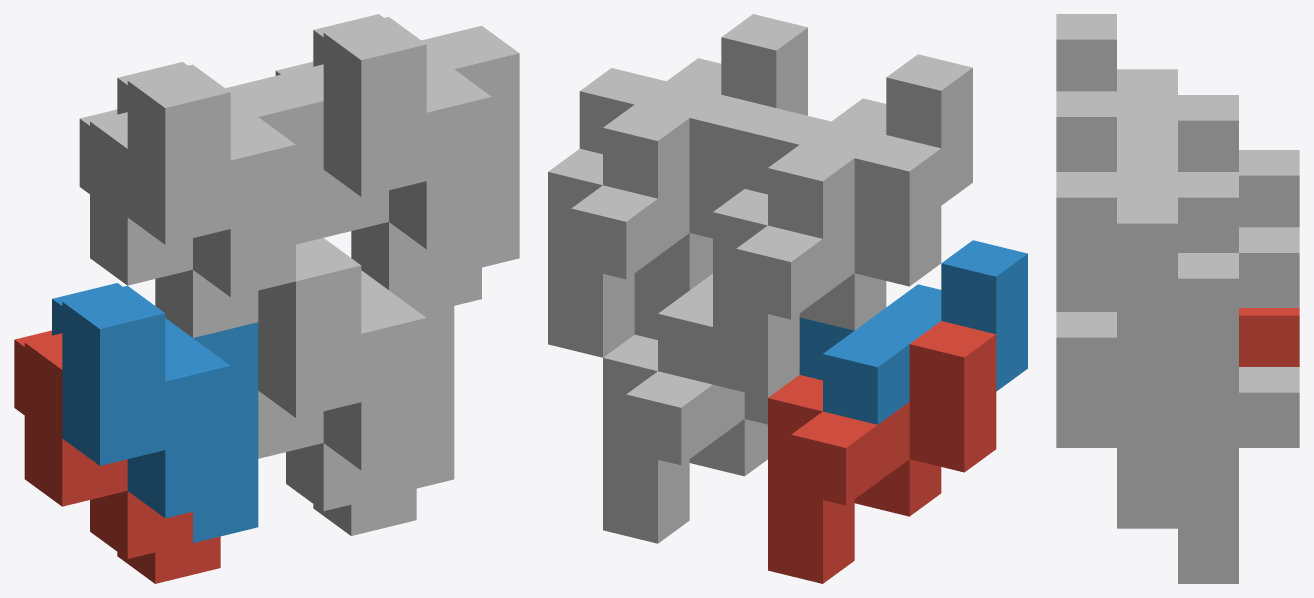
The model's file is tiling.obj.
3 renders of one model, left to right at view 1: azimuth 30°, elevation 25°; view 2: azimuth 150°, elevation 25°; view 3: azimuth 270°, elevation 25°, orthographic. The views are drawn at different scales.
Parts seen in each view (by area): view 1: copy_1_domain_8, copy_1_domain_2, copy_1_domain_4, copy_1_domain_6, copy_1_domain_1, copy_1_domain_3, copy_1_domain_5, copy_1_domain_7; view 2: copy_1_domain_1, copy_1_domain_3, copy_1_domain_7, copy_1_domain_5, copy_1_domain_4, copy_1_domain_8, copy_1_domain_2, copy_1_domain_6; view 3: copy_1_domain_8, copy_1_domain_7, copy_1_domain_6, copy_1_domain_5, copy_1_domain_4, copy_1_domain_3, copy_1_domain_1.
Boxes of the visible parts, <box> form: copy_1_domain_8: <box>313,14,519,274</box>; copy_1_domain_2: <box>52,283,258,542</box>; copy_1_domain_4: <box>117,62,323,297</box>; copy_1_domain_6: <box>258,238,454,495</box>; copy_1_domain_1: <box>14,330,220,583</box>; copy_1_domain_3: <box>79,109,258,337</box>; copy_1_domain_5: <box>258,391,416,535</box>; copy_1_domain_7: <box>275,61,481,305</box>; copy_1_domain_1: <box>768,321,996,583</box>; copy_1_domain_3: <box>713,135,941,397</box>; copy_1_domain_7: <box>548,95,775,357</box>; copy_1_domain_5: <box>603,334,767,543</box>; copy_1_domain_4: <box>744,54,972,238</box>; copy_1_domain_8: <box>579,14,807,198</box>; copy_1_domain_2: <box>799,240,1027,424</box>; copy_1_domain_6: <box>634,273,712,384</box>; copy_1_domain_8: <box>1056,91,1238,388</box>; copy_1_domain_7: <box>1117,146,1299,444</box>; copy_1_domain_6: <box>1056,308,1177,528</box>; copy_1_domain_5: <box>1178,367,1299,583</box>; copy_1_domain_4: <box>1056,14,1238,171</box>; copy_1_domain_3: <box>1117,69,1299,227</box>; copy_1_domain_1: <box>1239,308,1299,366</box>.
Size of the model in its own units: 7 by 8 by 4.
